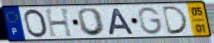A: (107, 7, 136, 36)
D: (161, 5, 191, 36)
G: (137, 6, 164, 35)
H: (43, 7, 76, 38)
O: (76, 7, 107, 37), (23, 8, 50, 39)
